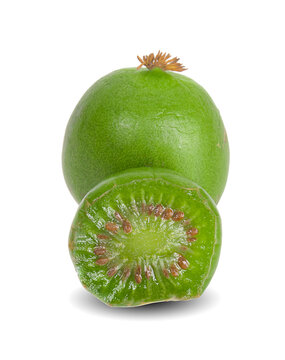kiwi: (10, 48, 230, 313)
